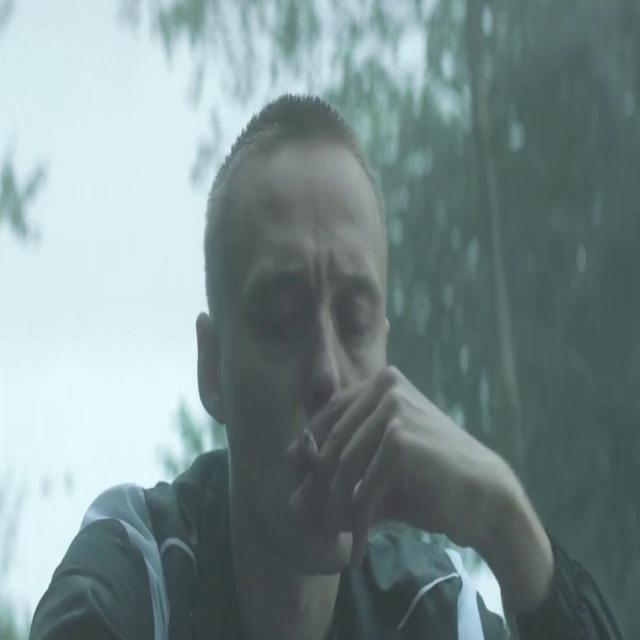Smooking: (299, 411, 328, 464)
